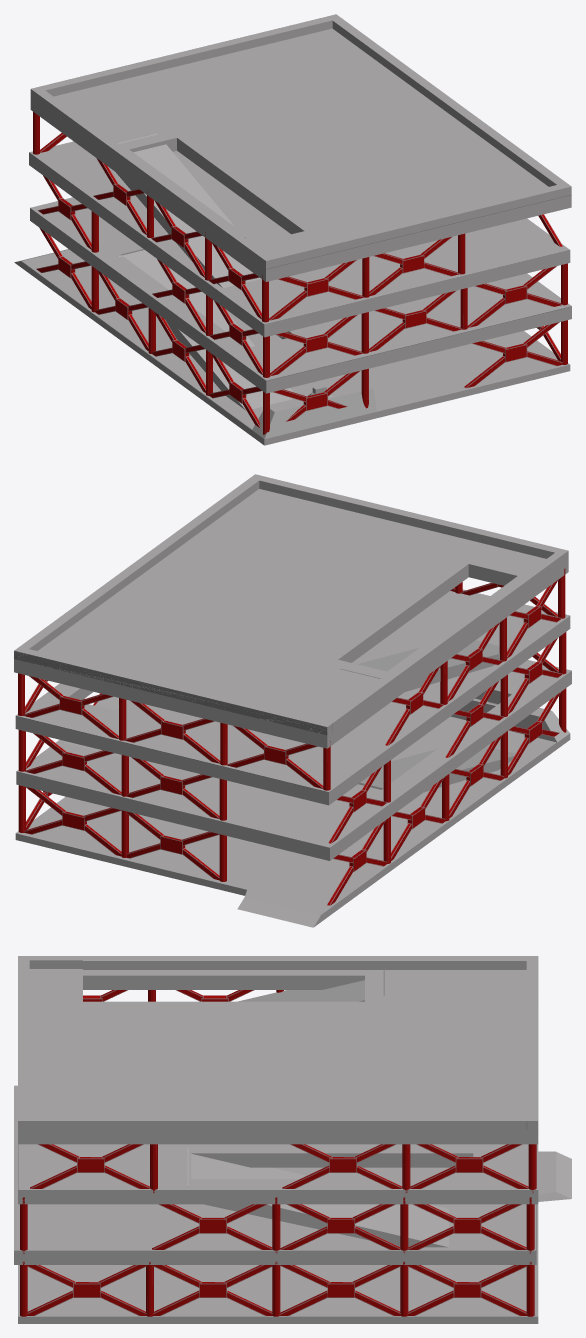
Rendered from tyuusyazyou.fbx.
The picture shows the model from 3 angles, top to bottom: view 1: azimuth 30°, elevation 25°; view 2: azimuth 150°, elevation 25°; view 3: azimuth 270°, elevation 25°; orthographic projection. The views are drawn at different scales.
Visible parts, largest first — view 1: cuboid_3, cuboid_2, cuboid, cuboid_1, cylinder_6, cylinder_18, cylinder_17, cylinder_24, cylinder_16, cylinder_23, cylinder_7, cylinder_11 (+9 smaller); view 2: cuboid_3, cuboid_2, cuboid, cuboid_1, cylinder_1, cylinder, cylinder_27, cylinder_28, cylinder_29, cylinder_13, cylinder_12, cylinder_11 (+10 smaller); view 3: cuboid_3, cuboid_1, cuboid_2, cuboid, cylinder_2, cylinder_3, cylinder_4, cylinder_5, cylinder_22, cylinder_14, cylinder_15, cylinder_31 (+3 smaller).
Part boxes in pixels (bbox=[...]): cuboid_3: bbox=[30, 14, 571, 281]; cuboid_2: bbox=[29, 133, 570, 337]; cuboid: bbox=[14, 249, 570, 445]; cuboid_1: bbox=[30, 197, 571, 393]; cylinder_6: bbox=[464, 320, 567, 388]; cylinder_18: bbox=[270, 312, 368, 376]; cylinder_17: bbox=[369, 288, 467, 351]; cylinder_24: bbox=[269, 257, 369, 320]; cylinder_16: bbox=[467, 263, 567, 327]; cylinder_23: bbox=[369, 233, 465, 296]; cylinder_7: bbox=[273, 368, 368, 421]; cylinder_11: bbox=[36, 227, 98, 312]; cuboid_3: bbox=[14, 474, 568, 748]; cuboid_2: bbox=[15, 589, 570, 805]; cuboid: bbox=[15, 698, 570, 927]; cuboid_1: bbox=[16, 660, 571, 860]; cylinder_1: bbox=[24, 787, 128, 857]; cylinder: bbox=[121, 811, 226, 881]; cylinder_27: bbox=[226, 726, 330, 790]; cylinder_28: bbox=[124, 700, 227, 765]; cylinder_29: bbox=[23, 676, 126, 740]; cylinder_13: bbox=[25, 733, 128, 796]; cylinder_12: bbox=[127, 757, 226, 820]; cylinder_11: bbox=[327, 816, 390, 905]; cuboid_3: bbox=[18, 956, 538, 1144]; cuboid_1: bbox=[14, 1085, 536, 1264]; cuboid_2: bbox=[18, 969, 538, 1204]; cuboid: bbox=[18, 1151, 571, 1323]; cylinder_2: bbox=[407, 1261, 534, 1316]; cylinder_3: bbox=[279, 1261, 408, 1316]; cylinder_4: bbox=[153, 1261, 280, 1316]; cylinder_5: bbox=[27, 1261, 153, 1316]; cylinder_22: bbox=[152, 1197, 280, 1253]; cylinder_14: bbox=[407, 1197, 534, 1254]; cylinder_15: bbox=[280, 1197, 408, 1254]; cylinder_31: bbox=[282, 1144, 410, 1193].
Size of the model in its own units: 1244 by 713 by 1769.
